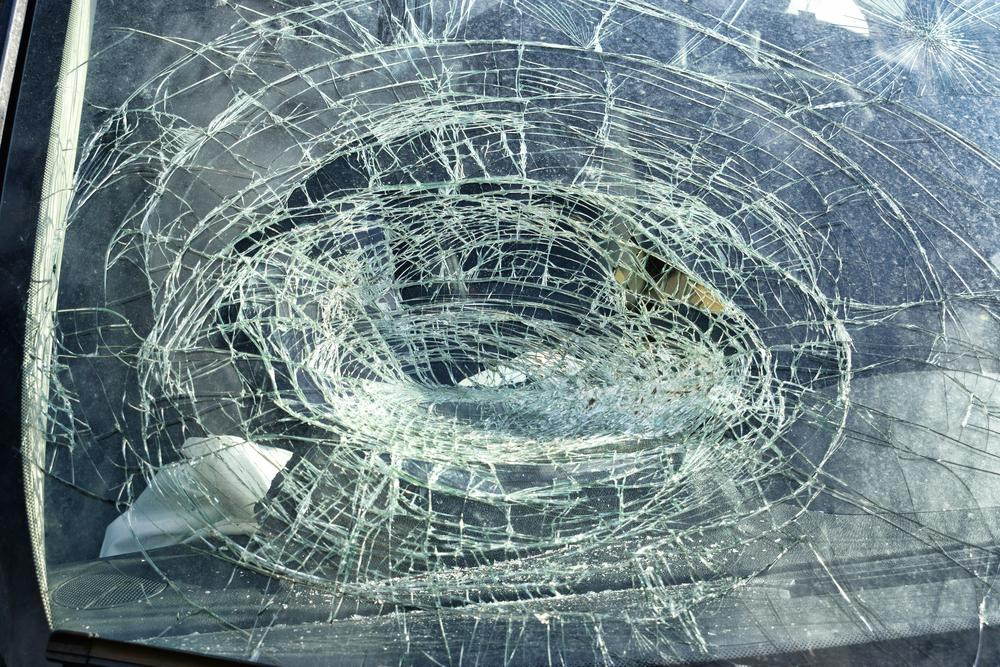glass shatter: (21, 0, 1000, 667)
